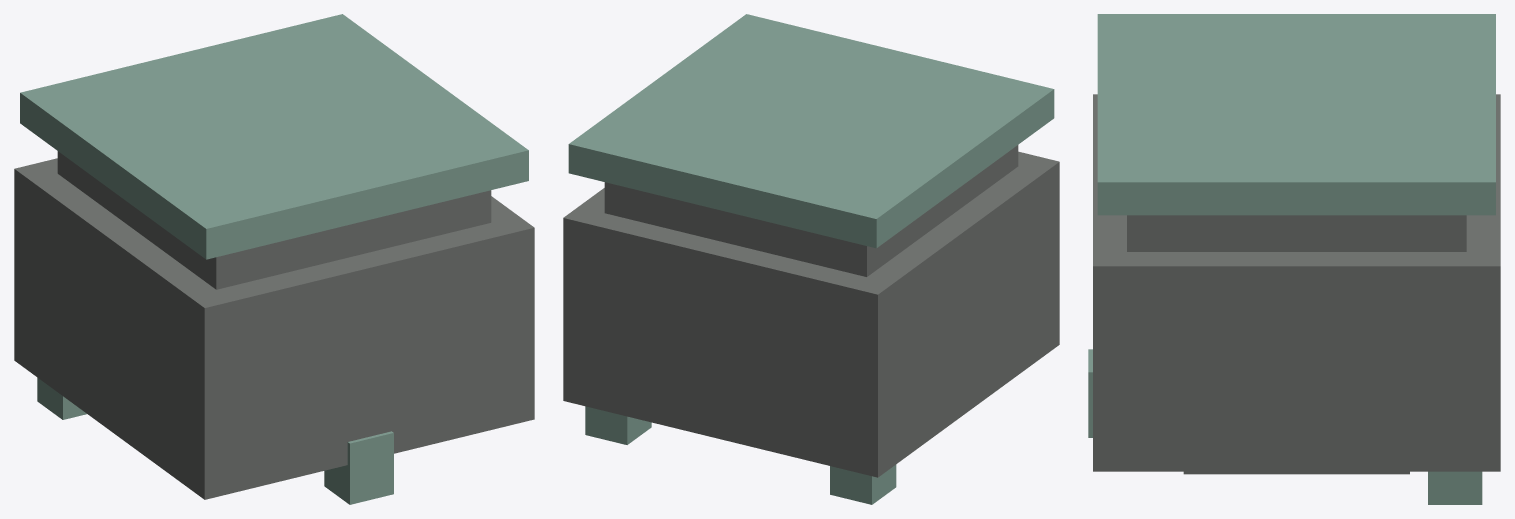
File: ancient_cauldron.glb
3 renders of one model, left to right at view 1: azimuth 30°, elevation 25°; view 2: azimuth 150°, elevation 25°; view 3: azimuth 270°, elevation 25°, orthographic. The views are drawn at different scales.
Visible parts, largest first — view 1: CauldronBody, CauldronPatinaTrim; view 2: CauldronBody, CauldronPatinaTrim; view 3: CauldronBody, CauldronPatinaTrim.
Boxes of the visible parts, left/top/right/bottom form: CauldronBody: left=14, top=151, right=534, bottom=499; CauldronPatinaTrim: left=20, top=14, right=528, bottom=504; CauldronBody: left=563, top=145, right=1059, bottom=477; CauldronPatinaTrim: left=568, top=14, right=1054, bottom=504; CauldronBody: left=1093, top=94, right=1500, bottom=474; CauldronPatinaTrim: left=1088, top=14, right=1495, bottom=504.
Bounding box in the file's own units: 0.9 × 0.8 × 0.91.
